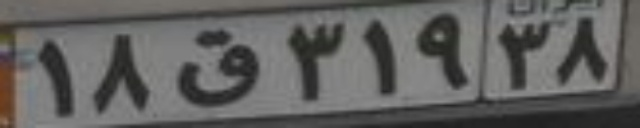1: (359, 16, 402, 97), (36, 38, 76, 116)
3: (285, 23, 349, 103), (501, 21, 547, 90)
8: (87, 33, 154, 114), (553, 15, 613, 84)
9: (414, 11, 470, 89)
ghaf: (173, 28, 262, 104)
